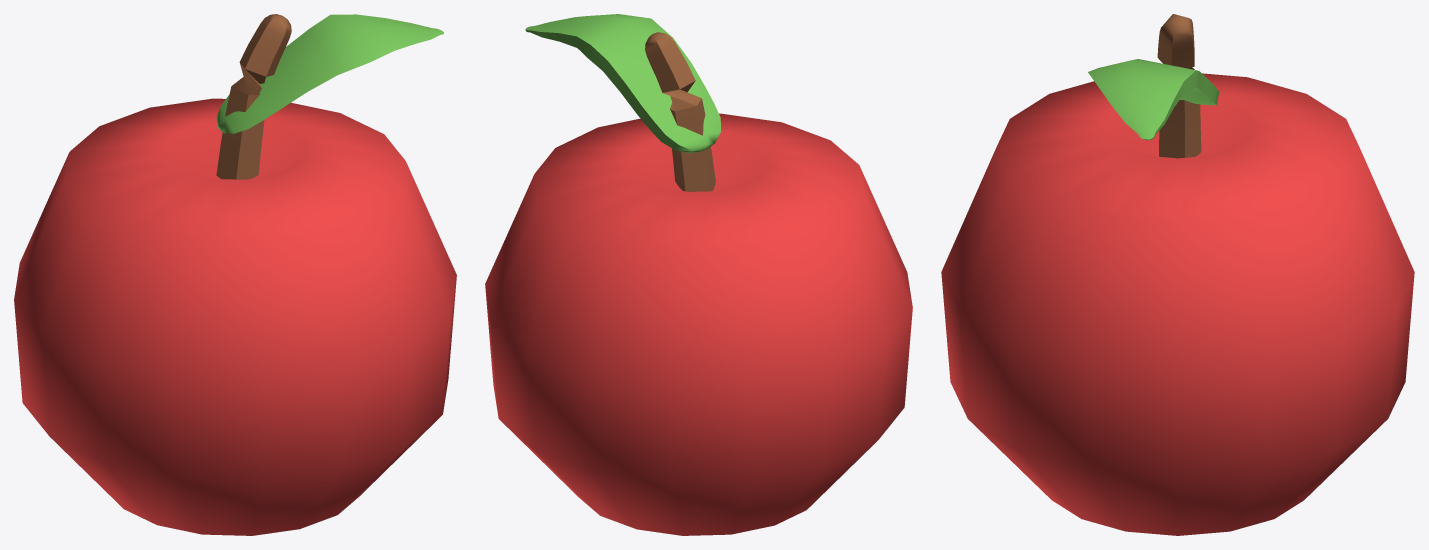
Rendered from item_apple.glb.
3 views of the same model, side by side, from view 1: azimuth 30°, elevation 25°; view 2: azimuth 150°, elevation 25°; view 3: azimuth 270°, elevation 25° (orthographic). The views are drawn at different scales.
Visible parts, largest first — view 1: item_apple; view 2: item_apple; view 3: item_apple.
Part boxes in pixels (x1=…): item_apple: x1=14, y1=14, x2=456, y2=535; item_apple: x1=485, y1=14, x2=912, y2=535; item_apple: x1=941, y1=14, x2=1414, y2=535.
Size of the model in its own units: 0.156 by 0.1759 by 0.156.
